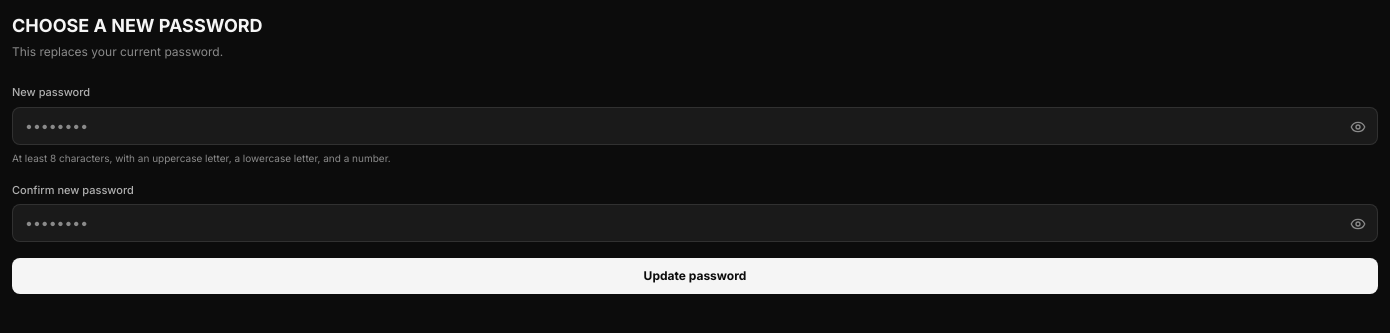
Test case: ResetPasswordForm › stays quiet while the new password is still short
The image size is (1390, 333).
Type "short" into the password field labelled "New password" at coordinates (695, 126), box [12,106,1378,144]
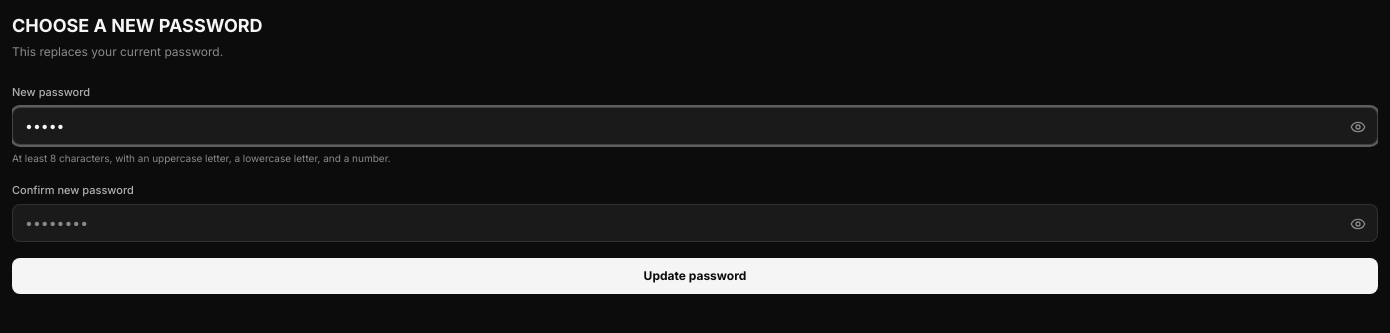
Expected: the text "Password must include" is not shown
Type "password" into the password field labelled "New password" at coordinates (695, 126), box [12,106,1378,144]
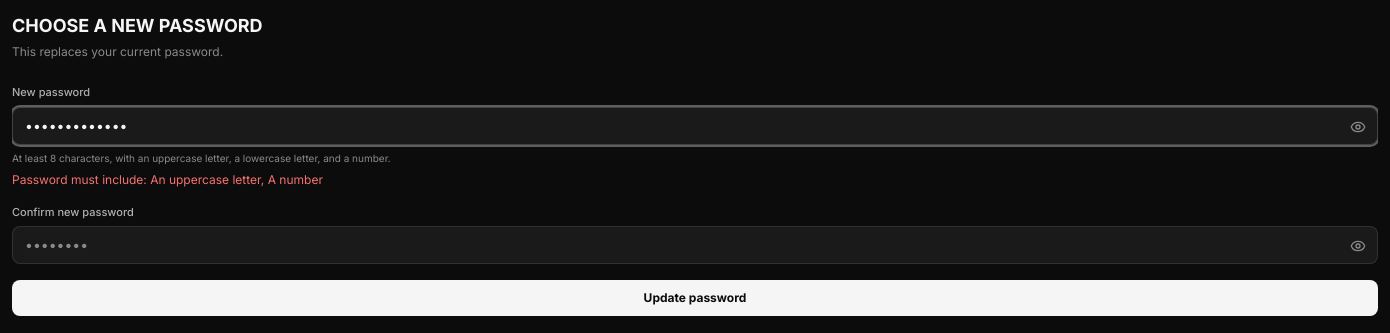
Expected: the message shows "uppercase", [12,172,323,186]
